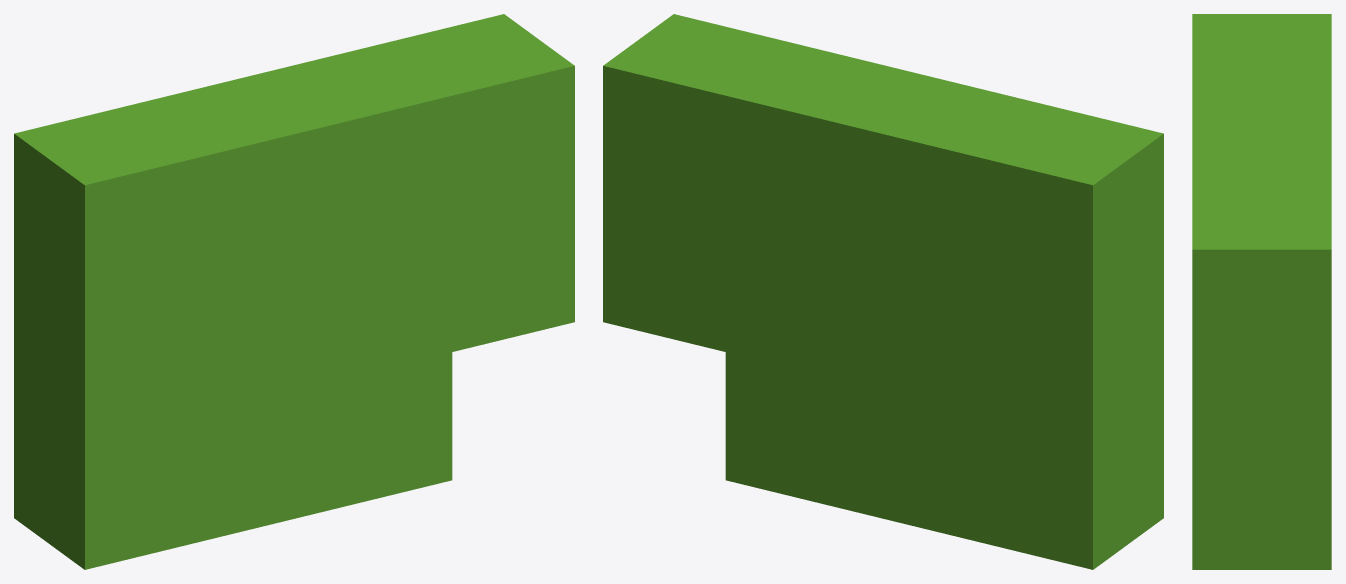
Rendered from swhale-2.obj.
3 views of the same model, side by side, from view 1: azimuth 30°, elevation 25°; view 2: azimuth 150°, elevation 25°; view 3: azimuth 270°, elevation 25° (orthographic).
Bounding box in the file's own units: 0.4 × 0.3 × 0.1.
1 material, 1 textured.
